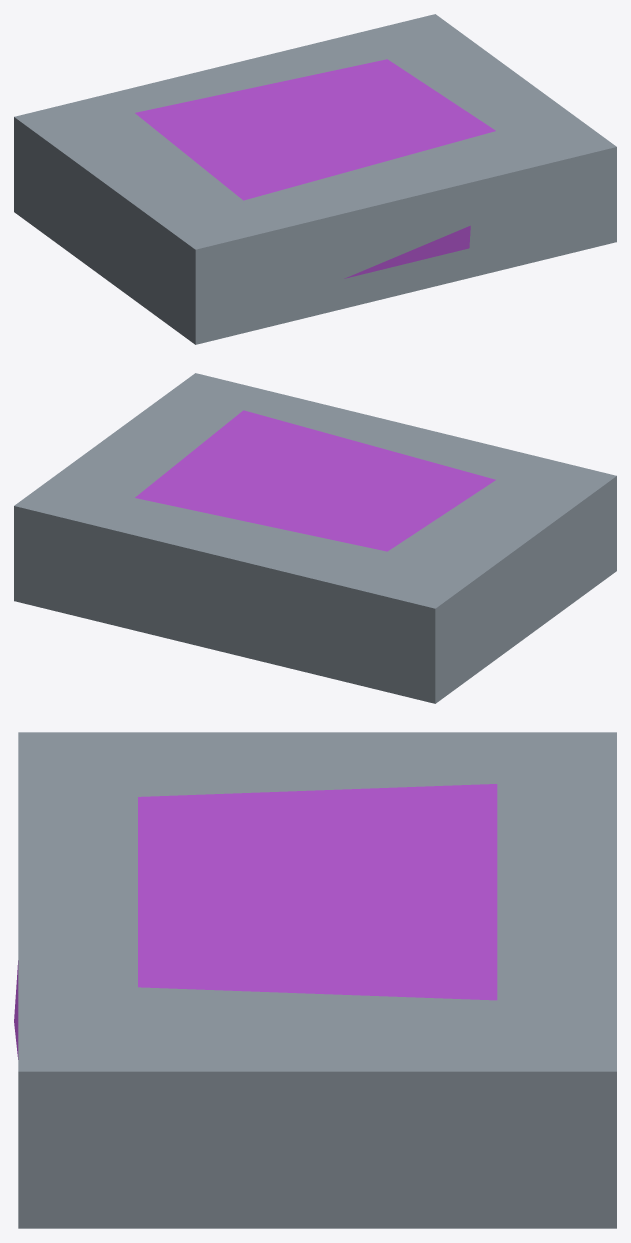
Rendered from CH_GapInterceptor_LOD1.glb.
3 renders of one model, top to bottom at view 1: azimuth 30°, elevation 25°; view 2: azimuth 150°, elevation 25°; view 3: azimuth 270°, elevation 25°, orthographic. The views are drawn at different scales.
Visible parts, largest first — view 1: EntranceGate; view 2: EntranceGate; view 3: EntranceGate.
Part boxes in pixels (box(x1,y1,x2,y2)): EntranceGate: box(14, 14, 616, 344); EntranceGate: box(14, 373, 616, 703); EntranceGate: box(14, 732, 616, 1228).
Bounding box in the file's own units: 630 × 150 × 473.
